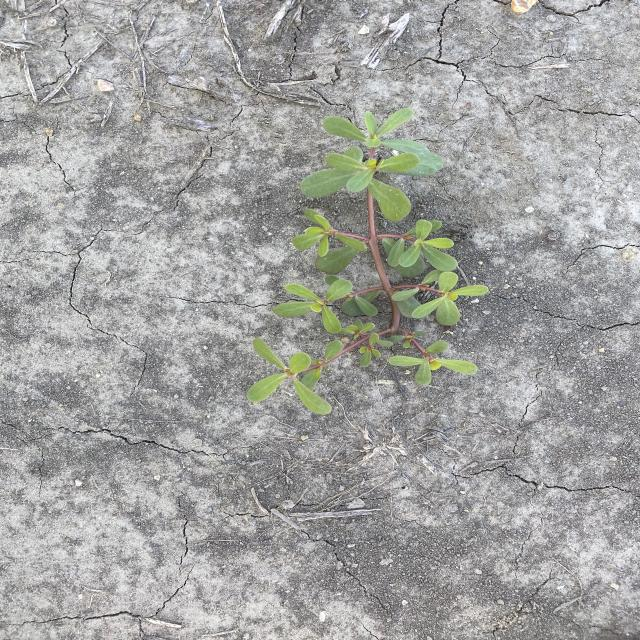Purslane: (246, 106, 491, 417)
